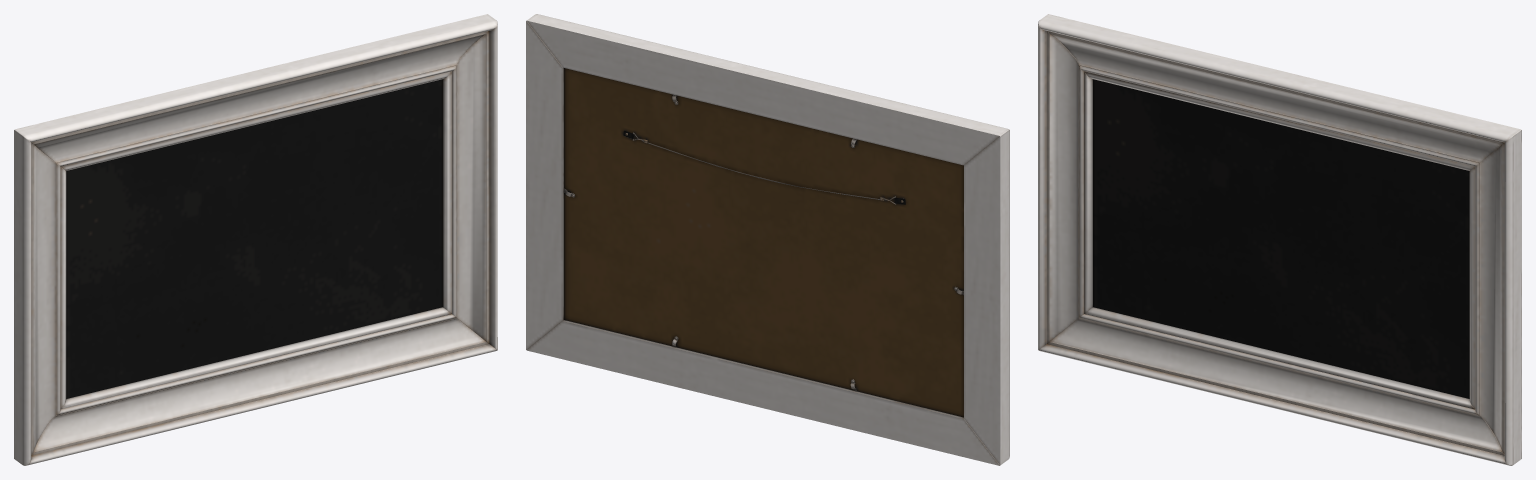
Rendered from hanging_picture_frame_02.glb.
3 views of the same model, side by side, from view 1: azimuth 30°, elevation 25°; view 2: azimuth 150°, elevation 25°; view 3: azimuth 330°, elevation 25° (orthographic).
Visible parts, largest first — view 1: hanging_picture_frame_02; view 2: hanging_picture_frame_02; view 3: hanging_picture_frame_02.
Part boxes in pixels (x1,y1,x2,y2): hanging_picture_frame_02: (14,14,497,465); hanging_picture_frame_02: (526,14,1009,465); hanging_picture_frame_02: (1038,14,1521,465).
Size of the model in its own units: 0.7518 by 0.5 by 0.0331.
Materials: 3 (3 with a texture image).
